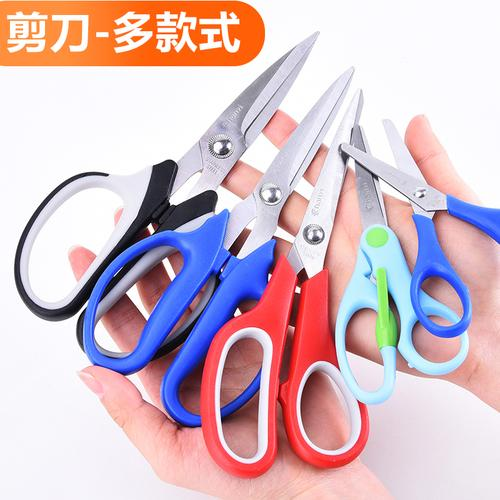scissor: (11, 31, 322, 368), (82, 64, 356, 427), (199, 91, 372, 481), (332, 127, 472, 408), (339, 140, 500, 337)
